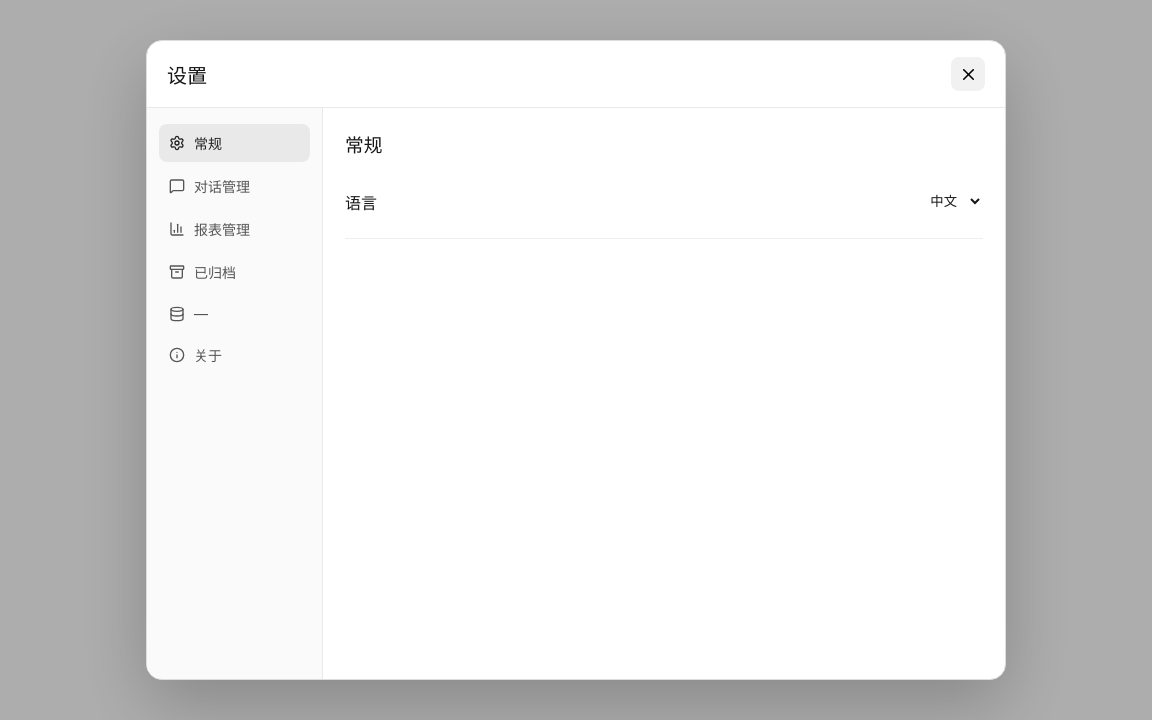
Scenario: ResourceManager full-history pagination › loads its own first page and can reach all 35 conversations
This screenshot has width=1152, height=720.
Click the button "对话管理". click: (234, 186)
box: [159,167,310,205]
(page scrolled)
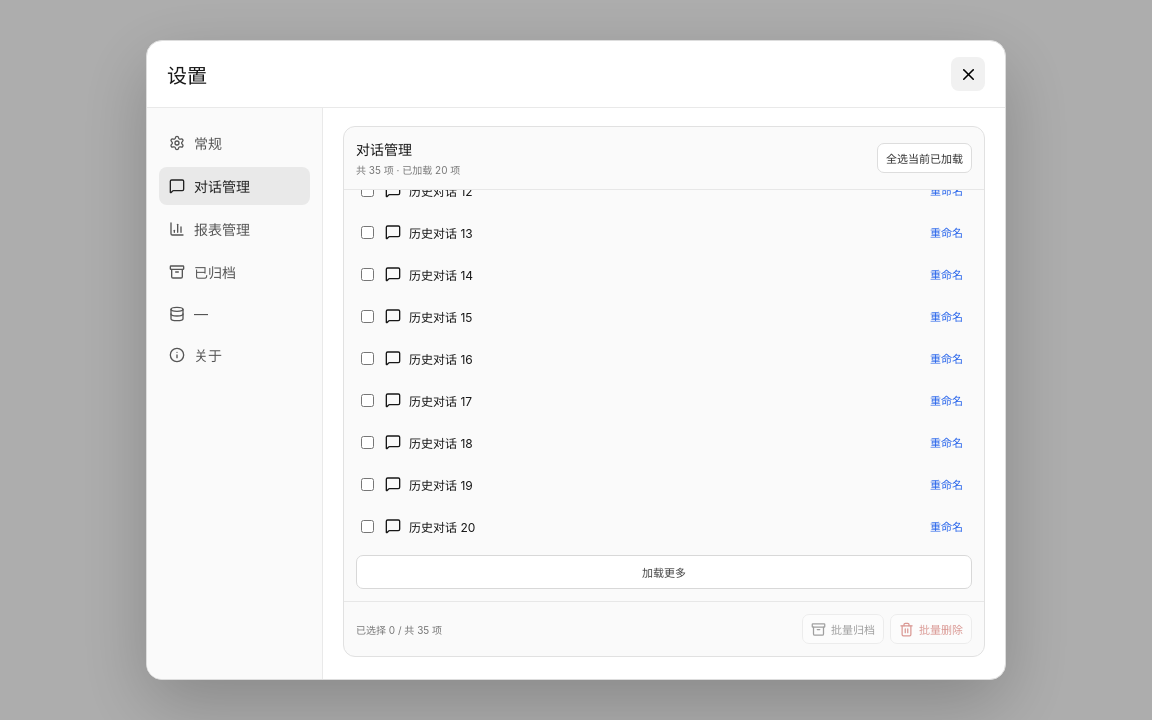
Expected: the text "历史对话 35" is not shown
Expected: the text "共 35 项 · 已加载 20 项" is shown, [356,162,460,177]
Click the button "加载更多". click: (664, 572)
box: [356,555,972,589]
(page scrolled)
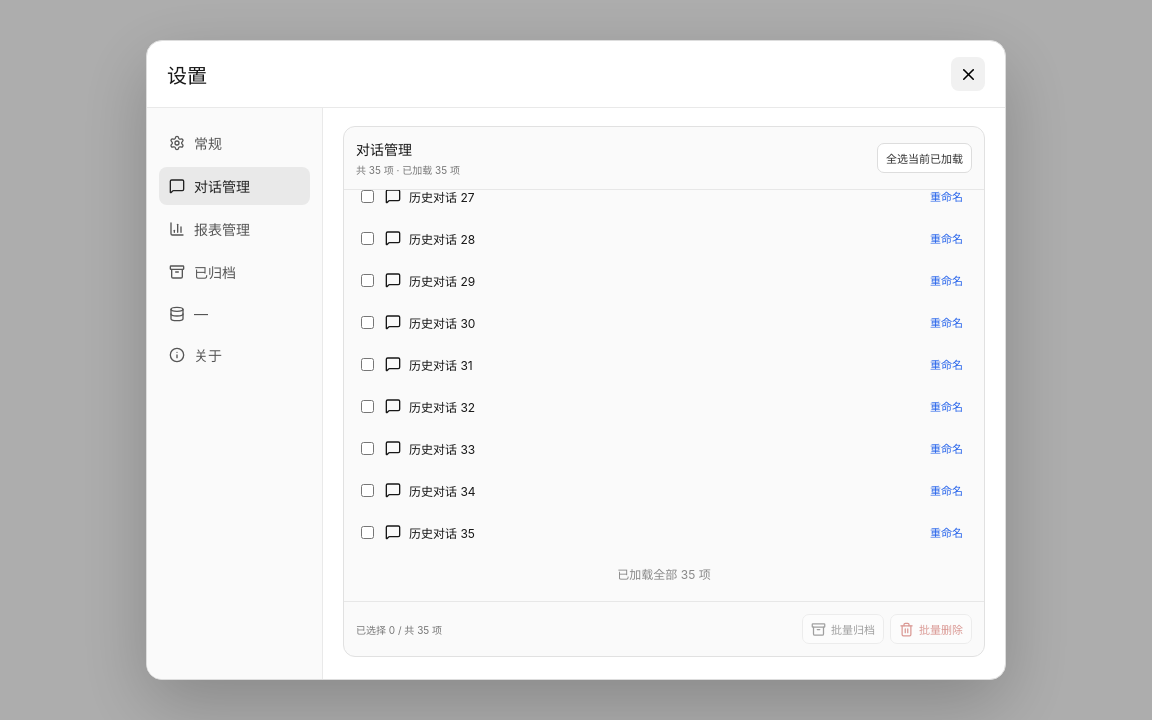
Expected: the text "历史对话 35" is shown, [409,526,475,540]
Expected: the text "共 35 项 · 已加载 35 项" is shown, [356,162,460,177]
Expected: the text "已加载全部 35 项" is shown, [617,567,711,582]
